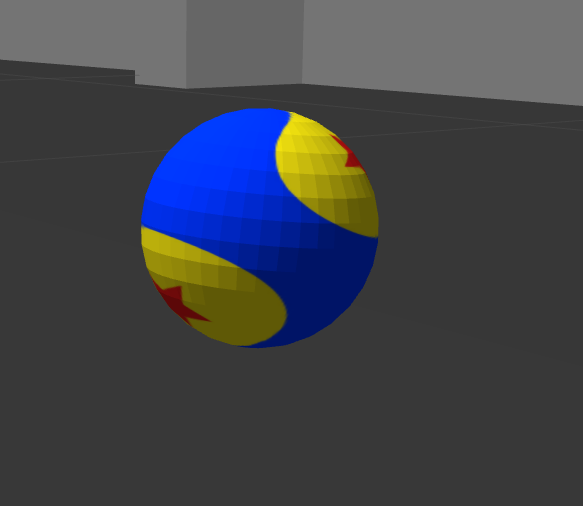toy_story_ball: (140, 107, 379, 348)
